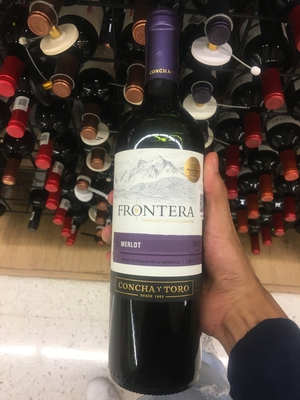frontera merlot: (98, 16, 211, 400)
